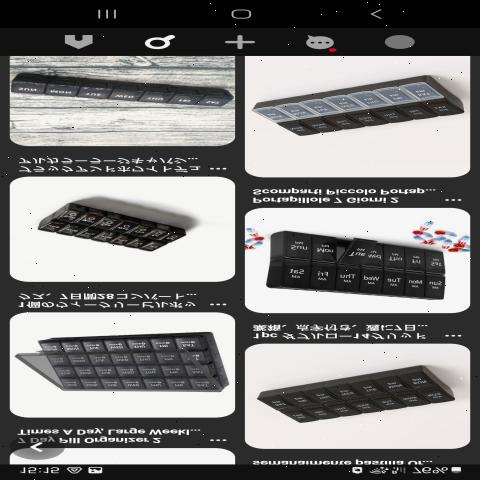PillBox: (260, 349, 458, 441), (258, 68, 471, 150), (22, 322, 228, 406), (22, 192, 212, 269), (251, 231, 464, 299), (7, 72, 232, 120)
